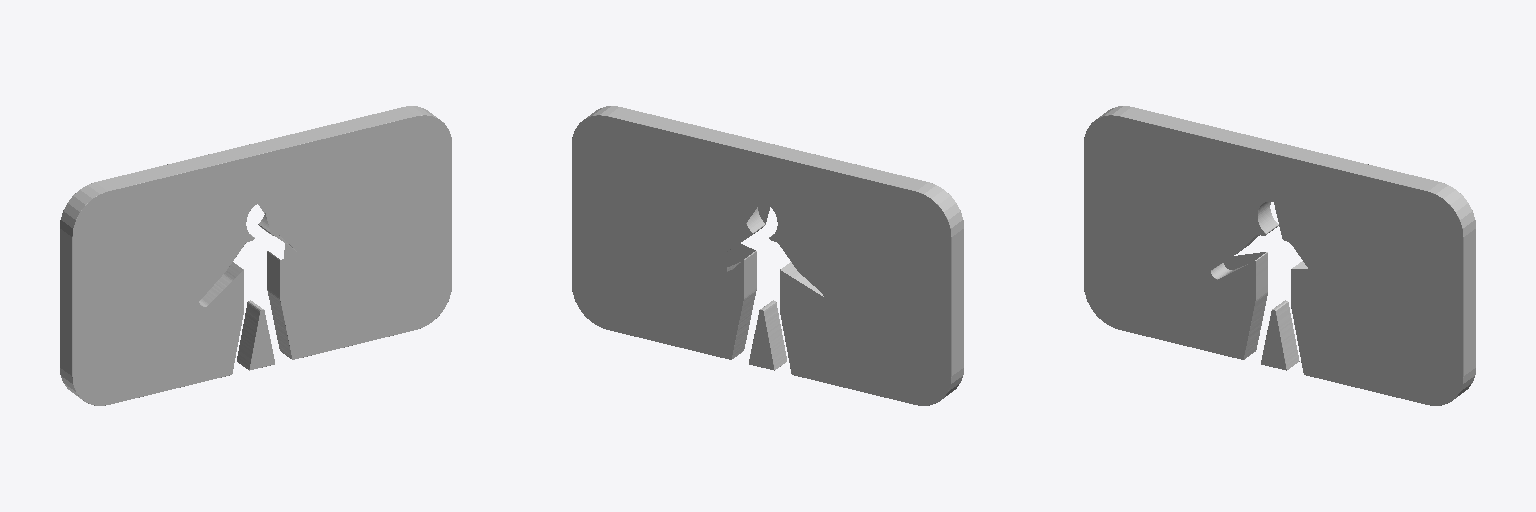
The picture shows the model from 3 angles: view 1: azimuth 30°, elevation 25°; view 2: azimuth 150°, elevation 25°; view 3: azimuth 330°, elevation 25°; orthographic projection.
Parts seen in each view (by area): view 1: POSE9; view 2: POSE9; view 3: POSE9.
Part boxes in pixels (x1,y1,x2,y2): POSE9: (60, 106, 451, 405); POSE9: (572, 106, 963, 405); POSE9: (1084, 106, 1475, 405).
Bounding box in the file's own units: 12 × 6.45 × 0.7.